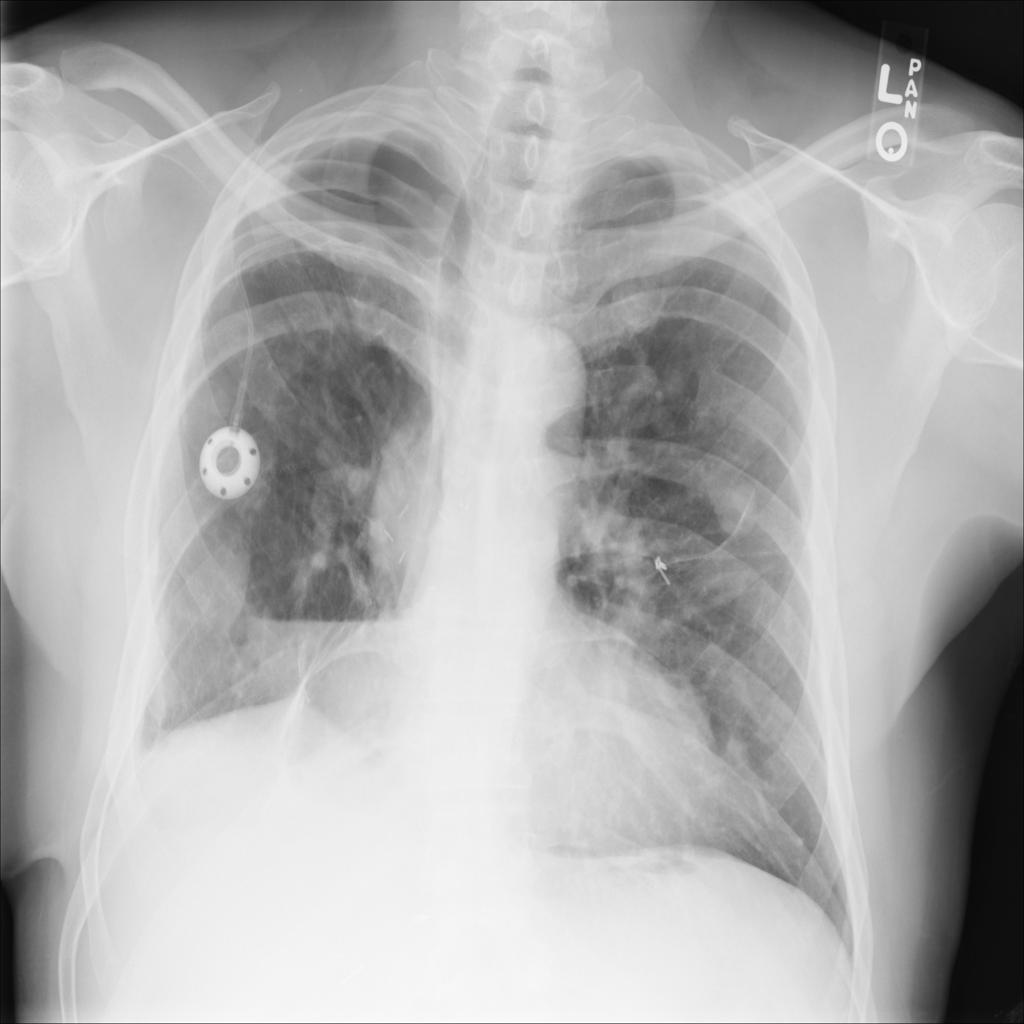nodule: (170, 517, 264, 653), (706, 461, 774, 544)
